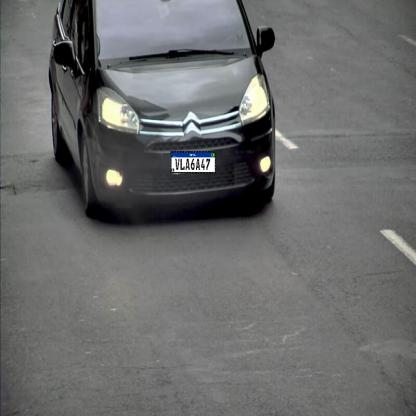PlacaM: (171, 151, 216, 173)
